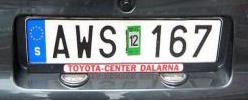1: (150, 23, 163, 59)
6: (169, 24, 188, 58)
7: (192, 23, 213, 60)
A: (52, 23, 71, 60)
S: (98, 25, 118, 59)
W: (74, 23, 93, 59)
